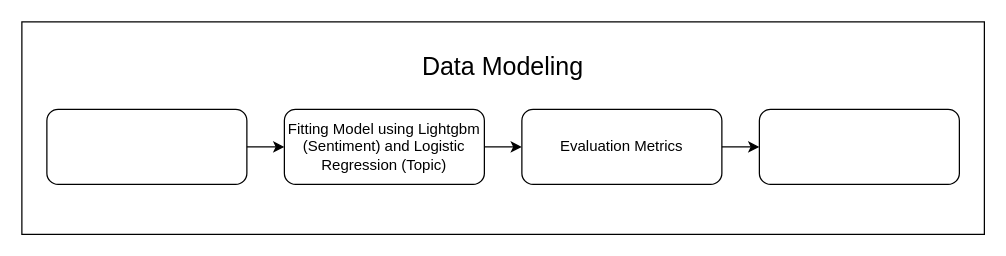
The diagram is 1006 pixels wide and 256 high, and some of its shapes have lost their labels. Each missing label, with the box of its shape:
Clean Data from Data Preprocessing Result: (46, 108, 247, 184)
Save Model: (758, 108, 959, 184)
